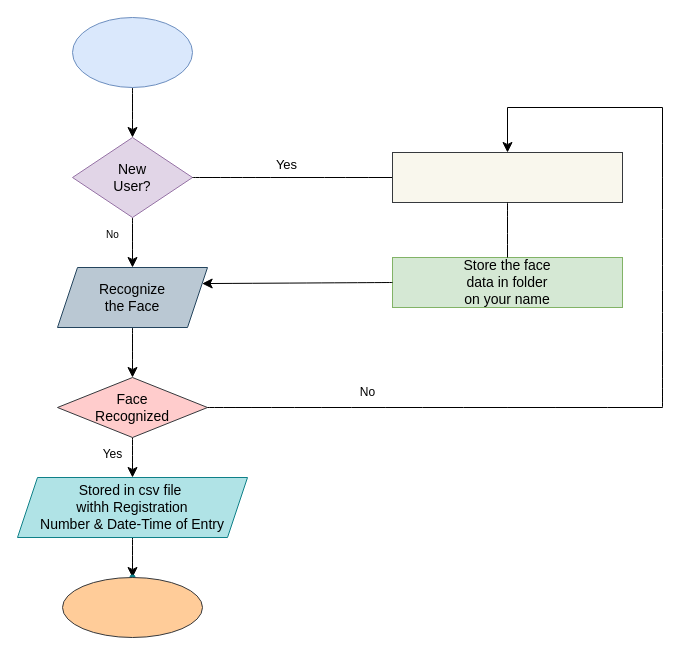
Some shapes in this 690 by 655 pixel diagram are drawn without their labels. The centre of each missing label's shape, as x and y in pixels:
"End" belongs at [132,607].
"Give your Photograph" belongs at [507,177].
"Start" belongs at [132,52].
